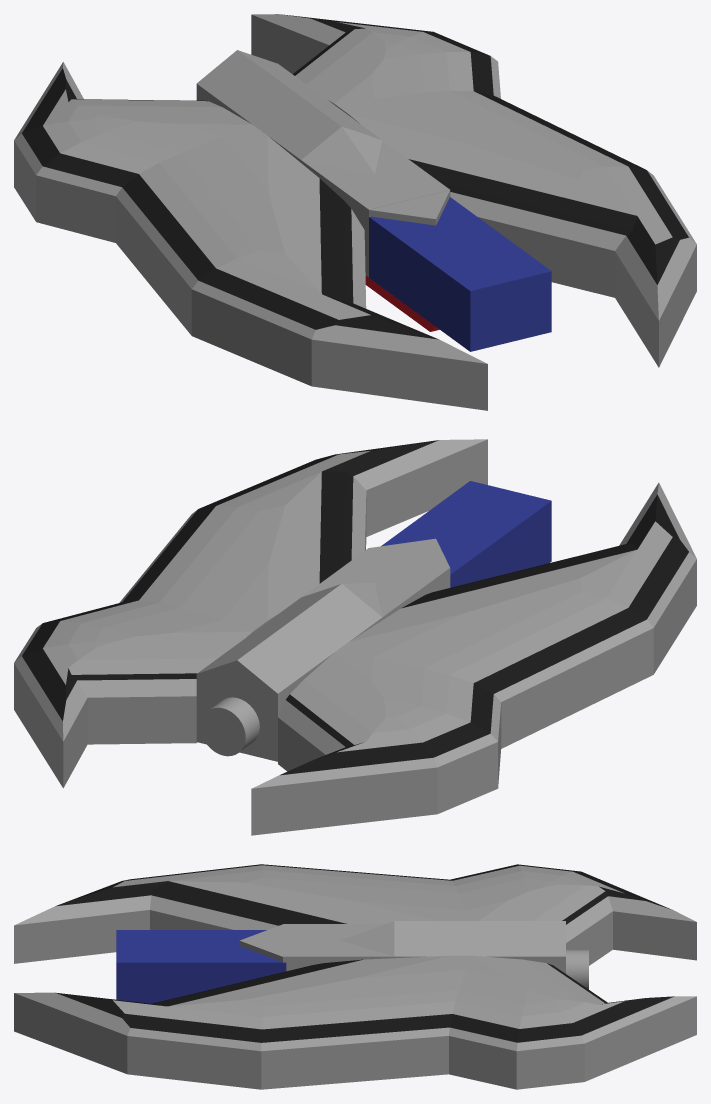
The model's file is SWS (2).fbx.
The picture shows the model from 3 angles, top to bottom: view 1: azimuth 30°, elevation 25°; view 2: azimuth 150°, elevation 25°; view 3: azimuth 270°, elevation 25°; orthographic projection. The views are drawn at different scales.
Visible parts, largest first — view 1: Body7, Body16; view 2: Body7; view 3: Body7.
Part boxes in pixels (box(x1,y1,x2,y2)): Body7: box(14, 14, 696, 410); Body16: box(365, 276, 439, 331); Body7: box(14, 439, 696, 835); Body7: box(14, 864, 696, 1089).
Size of the model in its own units: 51.05 by 10.69 by 79.64.
